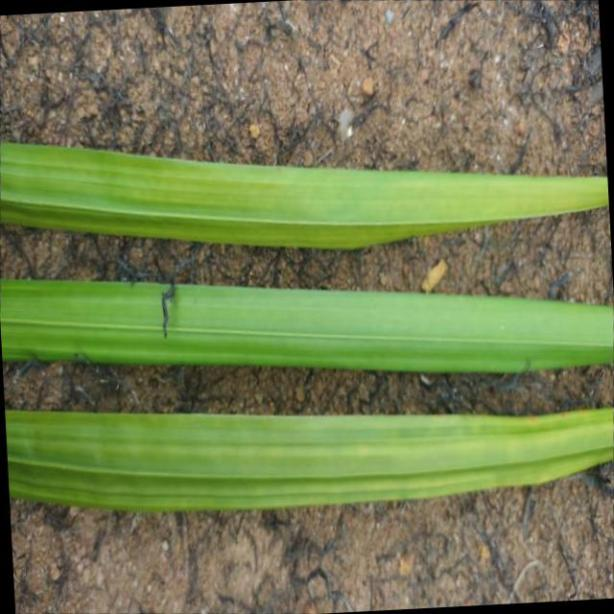nitrogen: (0, 134, 614, 254), (0, 401, 614, 515), (0, 278, 614, 374)
